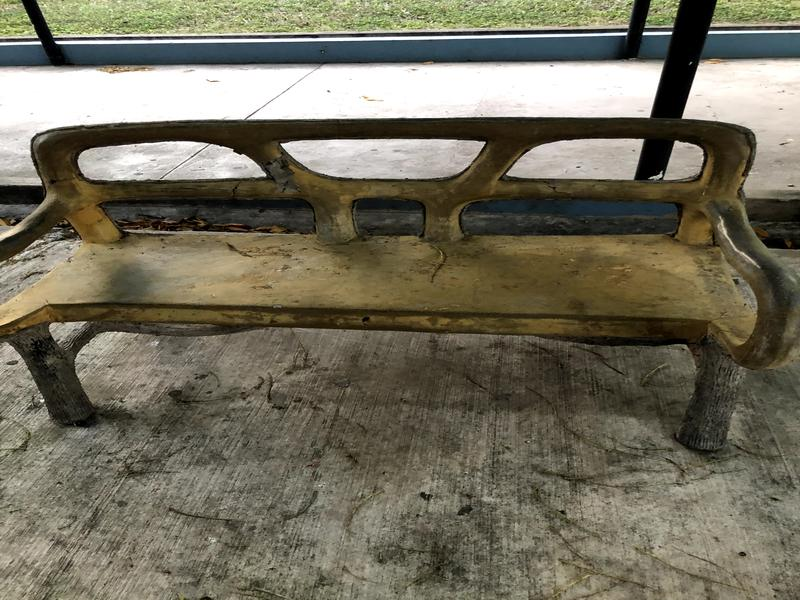18.0050864_-76.7496363_bench: (1, 98, 800, 473)
